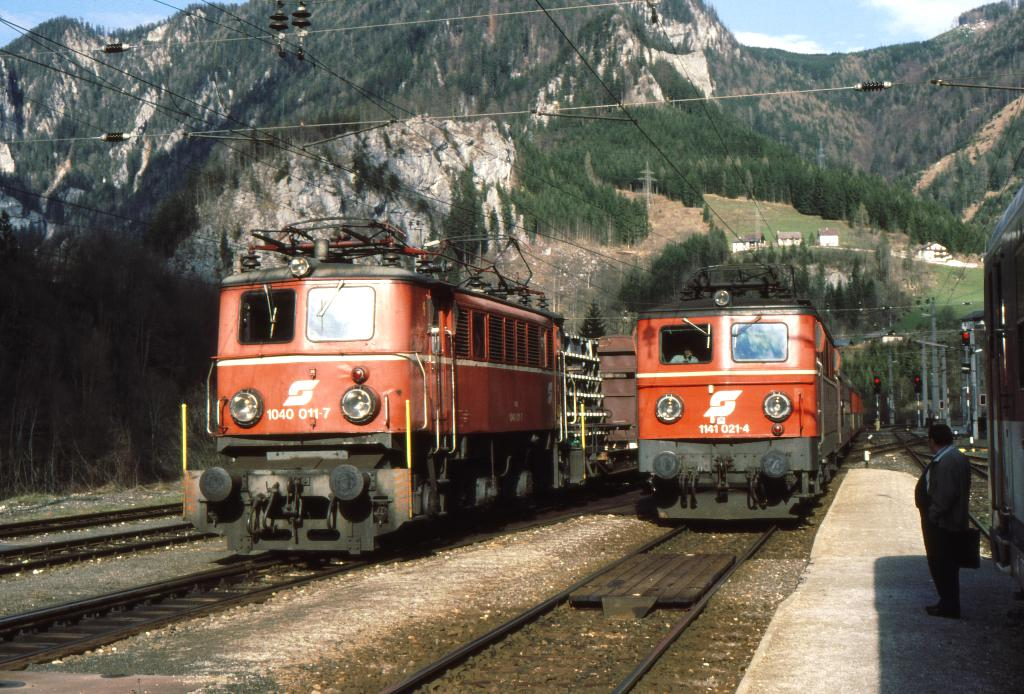train: (631, 273, 868, 529)
